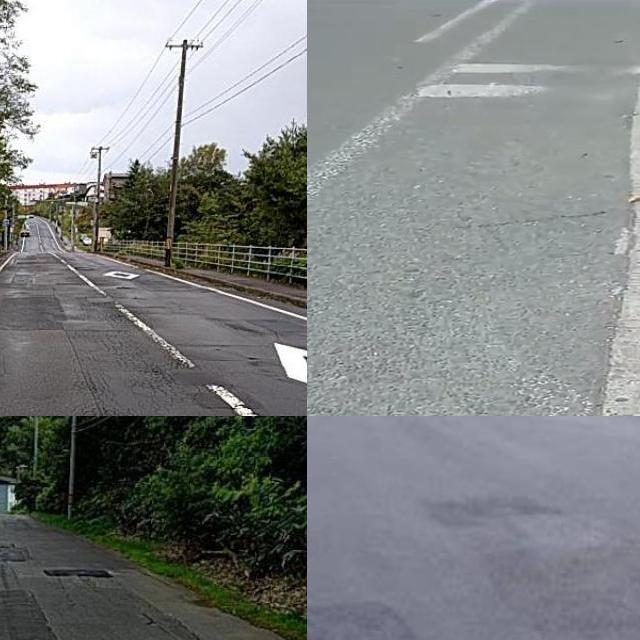Sambungan: (307, 598, 413, 640), (0, 289, 71, 331), (0, 586, 54, 640)
